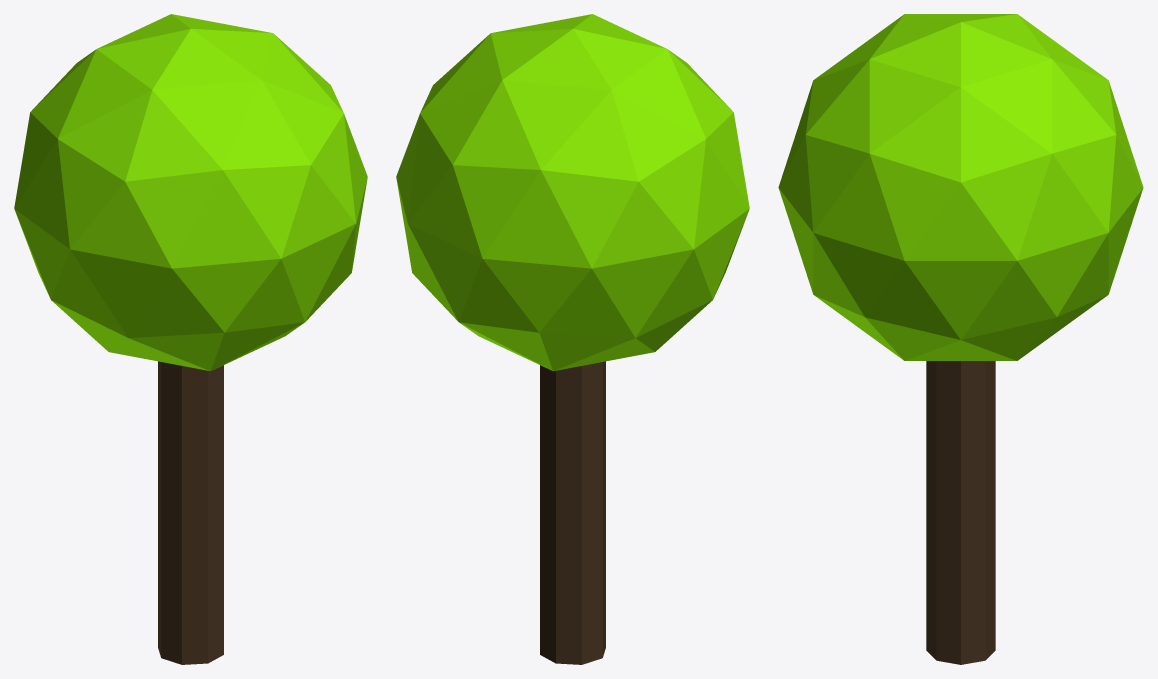
The model's file is drzewo1.fbx.
3 renders of one model, left to right at view 1: azimuth 30°, elevation 25°; view 2: azimuth 150°, elevation 25°; view 3: azimuth 270°, elevation 25°, orthographic.
Parts seen in each view (by area): view 1: Icosphere, Cylinder; view 2: Icosphere, Cylinder; view 3: Icosphere, Cylinder.
Part boxes in pixels (x1,y1,x2,y2): Icosphere: (14,14,367,371); Cylinder: (158,361,223,664); Icosphere: (396,14,749,371); Cylinder: (540,361,605,664); Icosphere: (778,14,1143,360); Cylinder: (926,361,995,664).
Size of the model in its own units: 1002 by 2000 by 1053.
